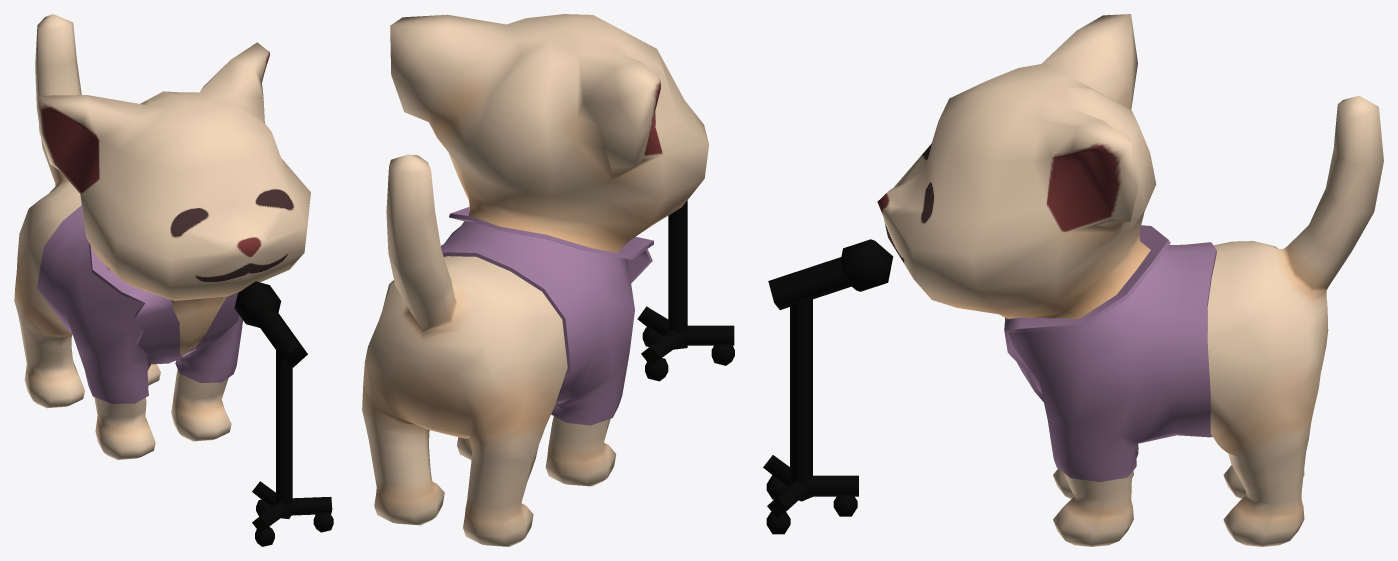
File: Singer Cat01.fbx
3 renders of one model, left to right at view 1: azimuth 30°, elevation 25°; view 2: azimuth 150°, elevation 25°; view 3: azimuth 270°, elevation 25°, orthographic. The views are drawn at different scales.
Visible parts, largest first — view 1: Cat_Base, TS_Cat_Shirt, Singer_Cat_Mic; view 2: Cat_Base, TS_Cat_Shirt, Singer_Cat_Mic; view 3: Cat_Base, TS_Cat_Shirt, Singer_Cat_Mic.
Part boxes in pixels (x1,y1,x2,y2): Cat_Base: (14, 14, 310, 459); TS_Cat_Shirt: (36, 205, 242, 403); Singer_Cat_Mic: (234, 281, 333, 546); Cat_Base: (362, 14, 709, 546); TS_Cat_Shirt: (441, 206, 653, 425); Singer_Cat_Mic: (637, 200, 734, 381); Cat_Base: (877, 14, 1383, 546); TS_Cat_Shirt: (1004, 225, 1216, 481); Singer_Cat_Mic: (763, 239, 893, 534).
Bounding box in the file's own units: 1.75 × 3.47 × 2.68.
4 materials, 1 textured.
